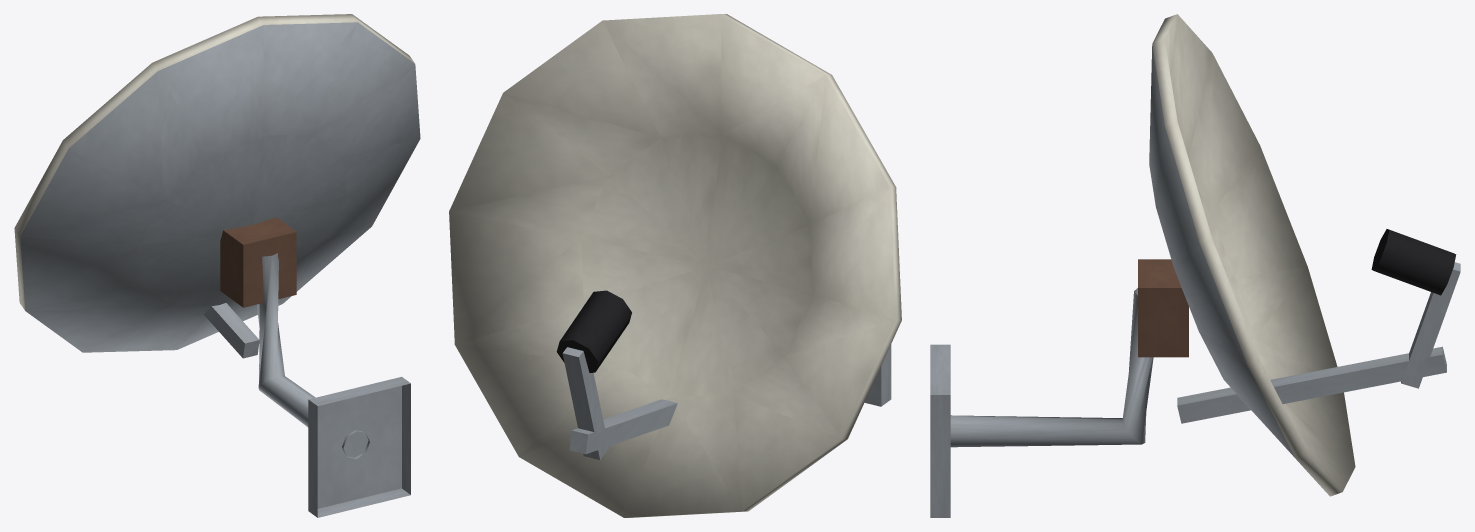
The model's file is FK_Dish.fbx.
3 renders of one model, left to right at view 1: azimuth 30°, elevation 25°; view 2: azimuth 150°, elevation 25°; view 3: azimuth 270°, elevation 25°, orthographic. The views are drawn at different scales.
Visible parts, largest first — view 1: FK_Dish; view 2: FK_Dish; view 3: FK_Dish.
Boxes of the visible parts, box(x1,y1,x2,y2) form: FK_Dish: box(14, 14, 420, 517); FK_Dish: box(449, 14, 901, 517); FK_Dish: box(930, 14, 1460, 517).
Bounding box in the file's own units: 0.6 × 0.59 × 0.6252.
Materials: 1 (1 with a texture image).
